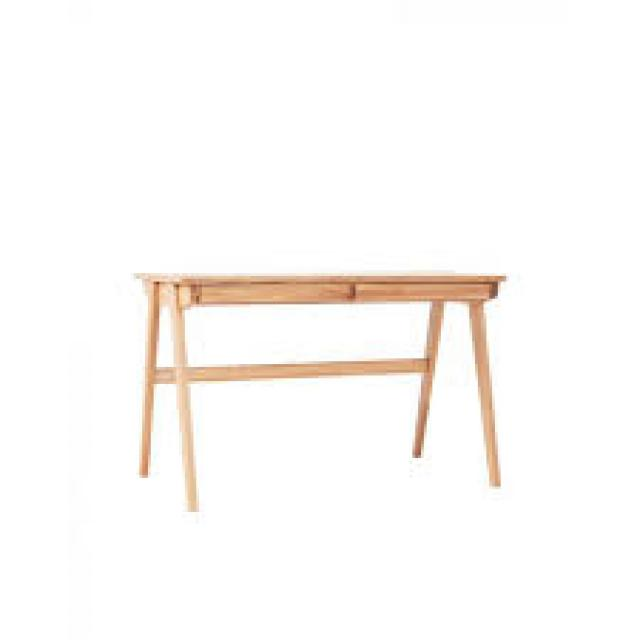Table: (117, 252, 562, 510)
